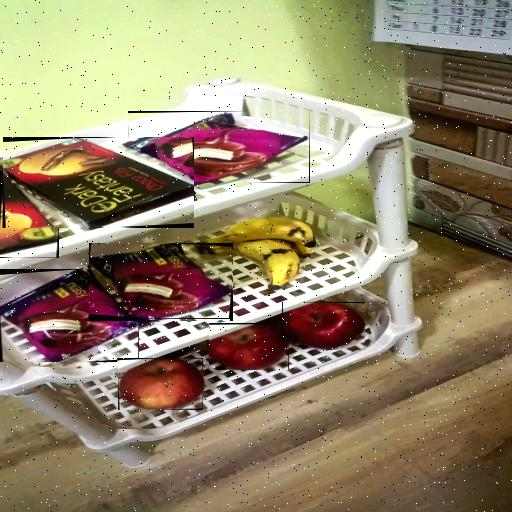Apple: (118, 358, 203, 410), (282, 302, 365, 350), (209, 323, 289, 370)
Choco Fills: (3, 139, 194, 227), (0, 171, 59, 258)
Choco Pie: (128, 111, 310, 183), (0, 269, 139, 362), (90, 244, 232, 319)
